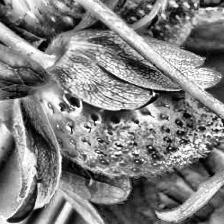Powdery Mildew Fruit: (83, 91, 224, 179)
